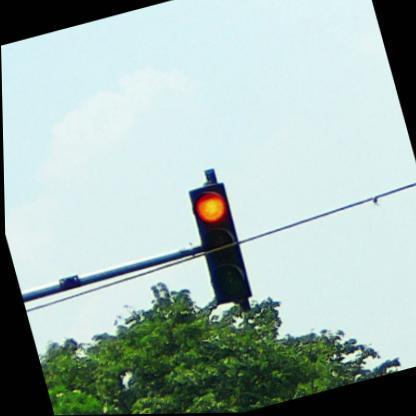red: (184, 181, 254, 306)
